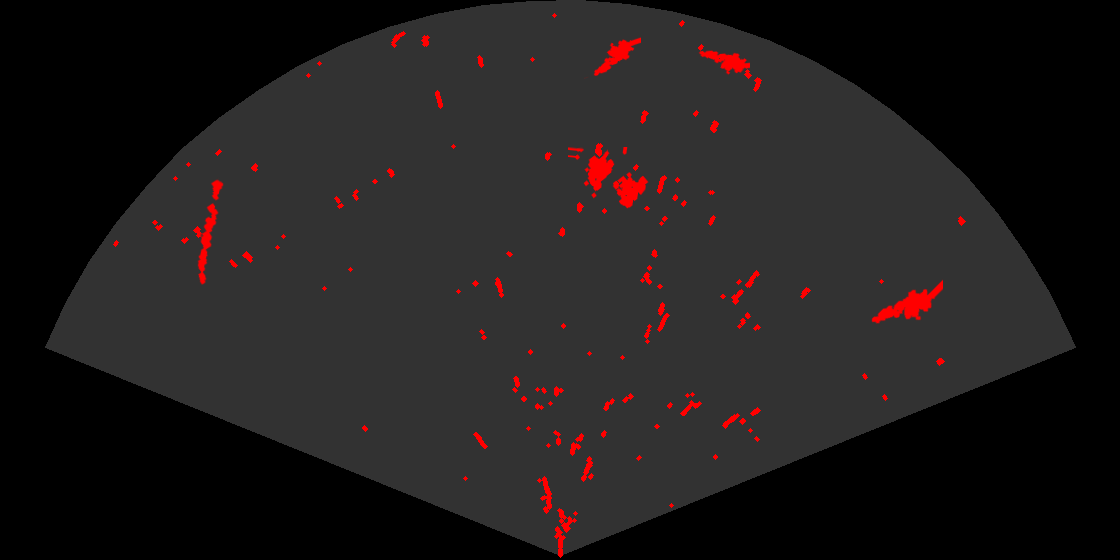cage: (568, 147, 650, 210)
chain: (196, 177, 225, 286)
frogman: (870, 278, 943, 325), (584, 35, 641, 79), (698, 49, 750, 76)
